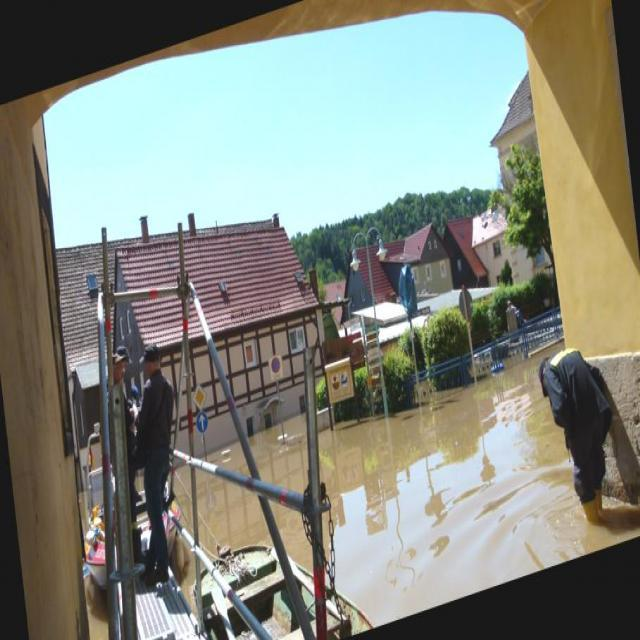flood: (308, 316, 600, 638)
